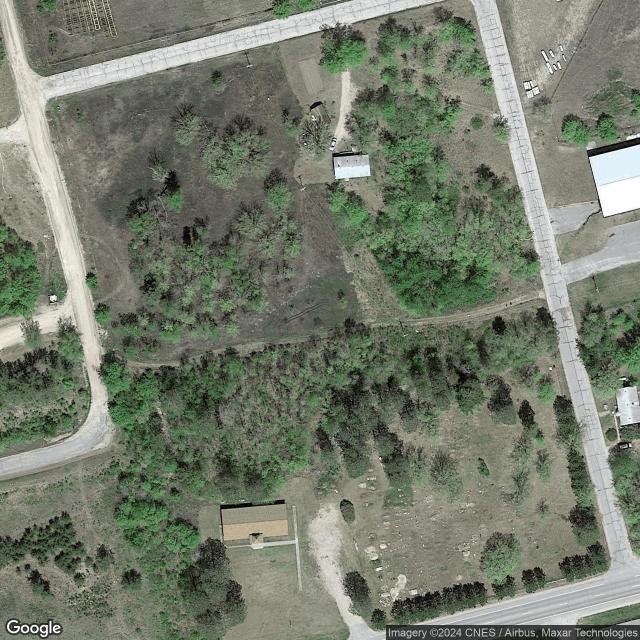Propane: (541, 49, 550, 62), (546, 62, 554, 75), (548, 48, 556, 59), (552, 62, 558, 72), (562, 53, 568, 62), (556, 61, 562, 70), (535, 85, 541, 94), (527, 80, 532, 90), (534, 86, 539, 95), (559, 44, 564, 52), (527, 90, 532, 98), (525, 91, 530, 99), (529, 80, 534, 88), (525, 80, 529, 90), (618, 376, 627, 380), (530, 89, 534, 98), (523, 82, 527, 91), (532, 88, 536, 95)
